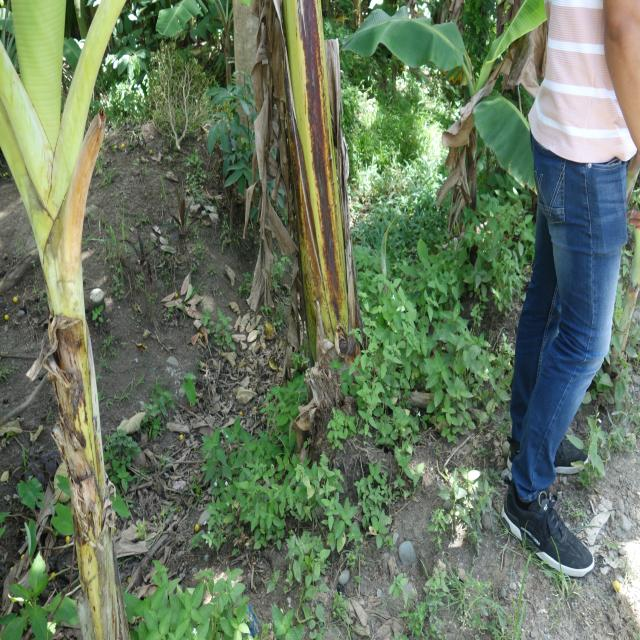Banana-plant: (0, 28, 127, 640), (258, 0, 376, 411)
